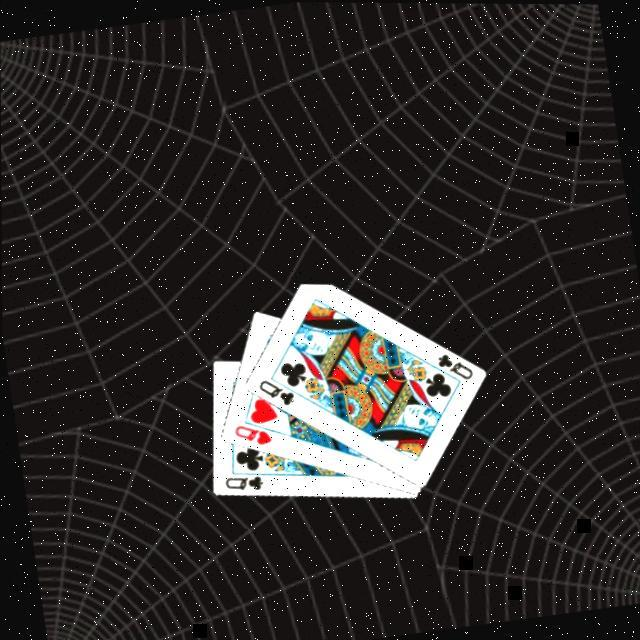QC: (252, 374, 296, 414), (430, 349, 474, 388), (218, 472, 265, 500)
QH: (228, 420, 272, 453)
